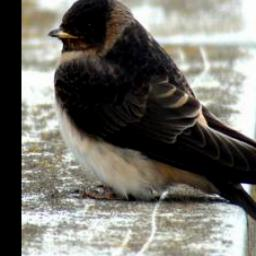Swallow: (46, 0, 256, 235)
